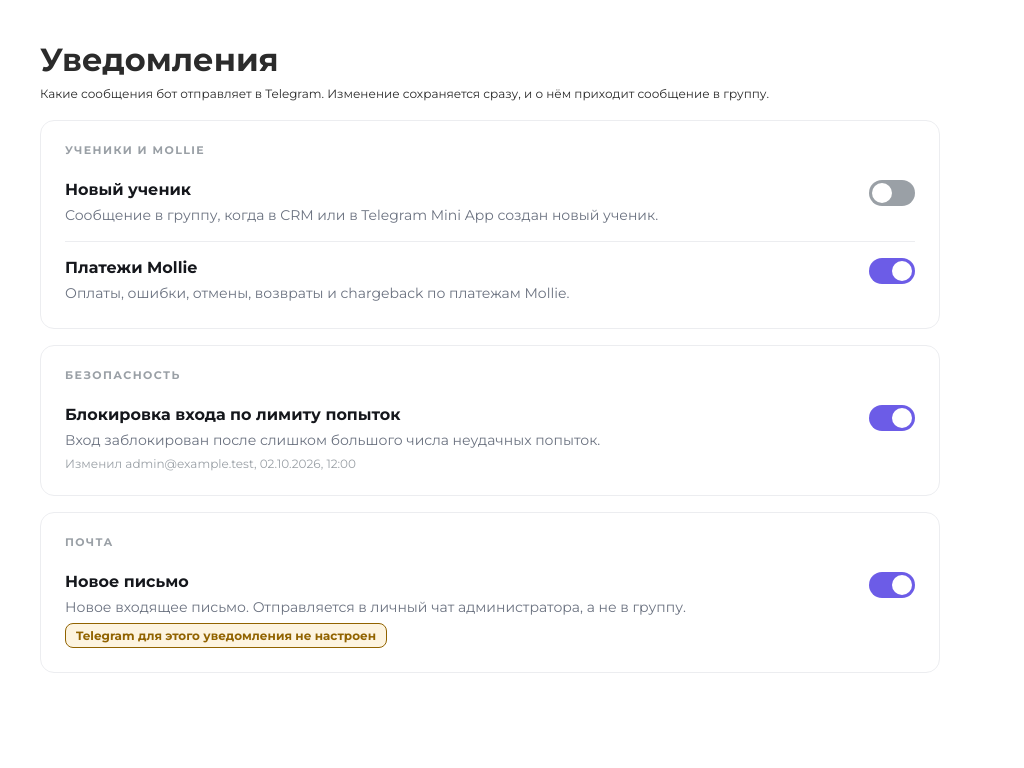
Test: keeps the previous state and shows an error when saving fails
Click the switch named "Платежи Mollie": (892, 271) 869,258 -> 915,284
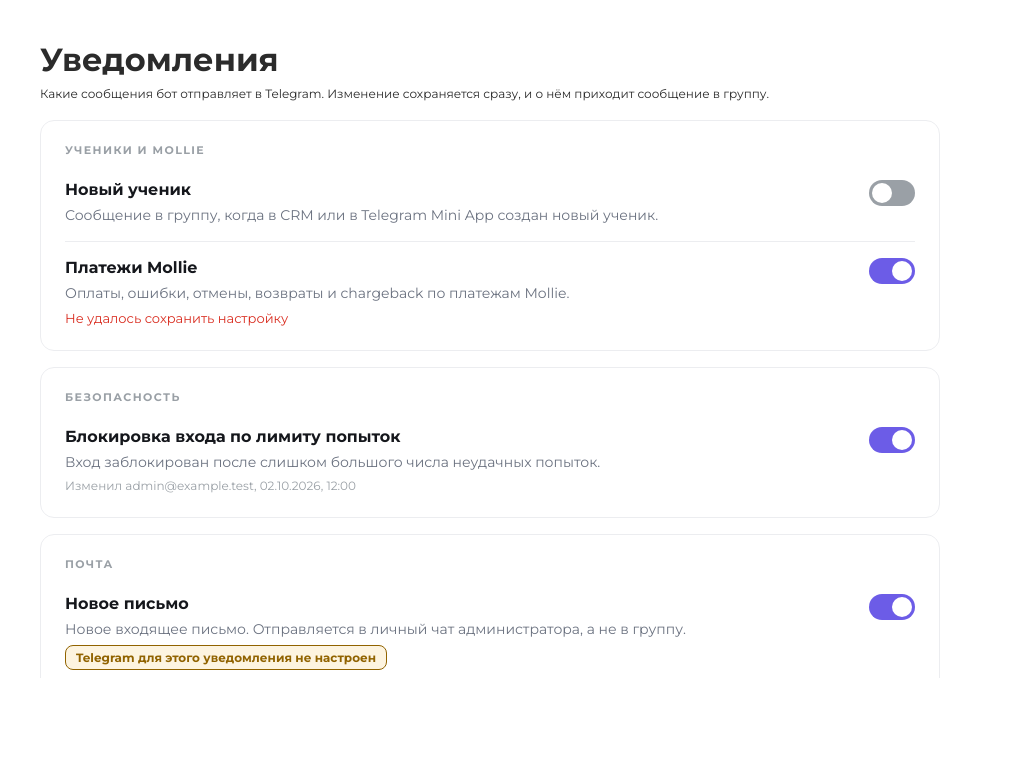
Now the text "Не удалось сохранить настройку" is shown, box 65,310 -> 288,326
